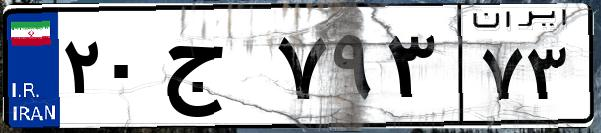0: (110, 28, 158, 98)
2: (57, 26, 110, 100)
3: (385, 28, 445, 110), (525, 38, 570, 115)
7: (270, 28, 330, 110), (475, 38, 525, 113)
9: (330, 28, 385, 110)
ج: (158, 20, 270, 120)
